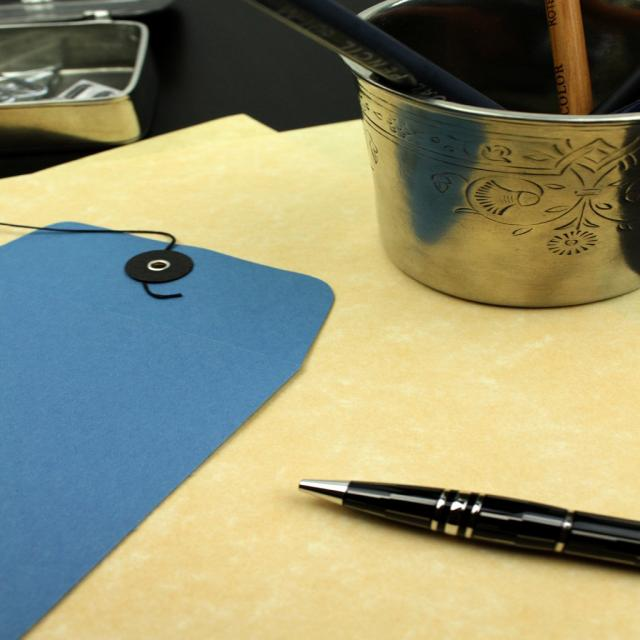pen: (298, 479, 640, 571), (246, 0, 520, 110), (548, 0, 608, 119)
